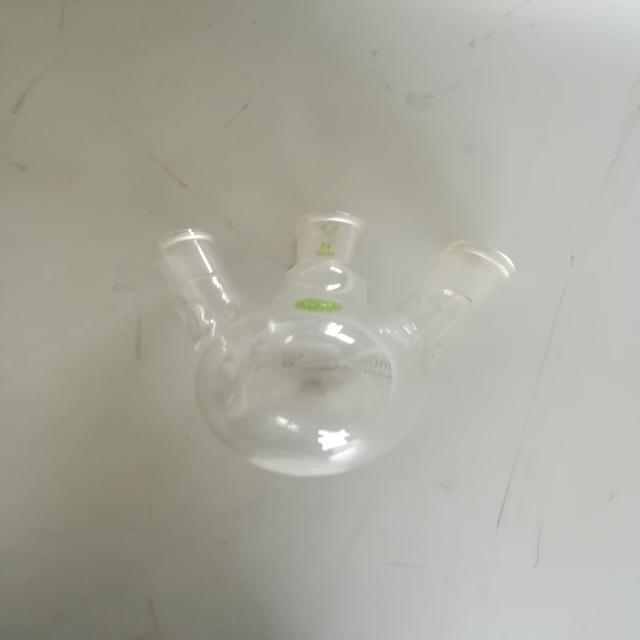Round_Bottom_Flask_Borosilicate_Glass_3_Neck: (142, 157, 542, 524)
